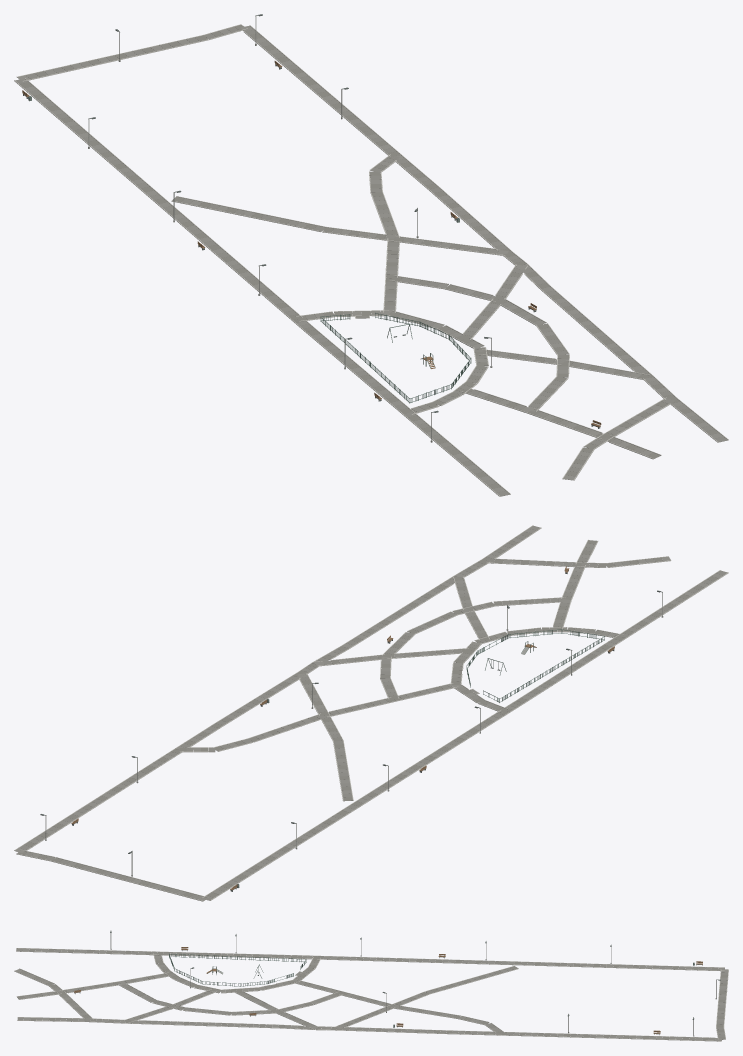
File: district_-1_-3.glb
3 renders of one model, top to bottom at view 1: azimuth 30°, elevation 25°; view 2: azimuth 150°, elevation 25°; view 3: azimuth 270°, elevation 25°, orthographic. The views are drawn at different scales.
Parts seen in each view (by area): view 1: CityPaving, CityCurbs, CityFence; view 2: CityPaving, CityCurbs, CityFence; view 3: CityPaving, CityCurbs, CityFence, CitySolid.
Boxes of the visible parts, x1=… form: CityPaving: x1=15, y1=25, x2=727, y2=496; CityCurbs: x1=14, y1=24, x2=728, y2=496; CityFence: x1=320, y1=312, x2=471, y2=403; CityPaving: x1=15, y1=525, x2=727, y2=901; CityCurbs: x1=14, y1=525, x2=728, y2=901; CityFence: x1=466, y1=629, x2=604, y2=702; CityPaving: x1=15, y1=948, x2=728, y2=1040; CityCurbs: x1=14, y1=948, x2=728, y2=1041; CityFence: x1=169, y1=953, x2=306, y2=986; CitySolid: x1=74, y1=930, x2=716, y2=1036.
Bounding box in the file's own units: 59.95 × 5.82 × 194.
